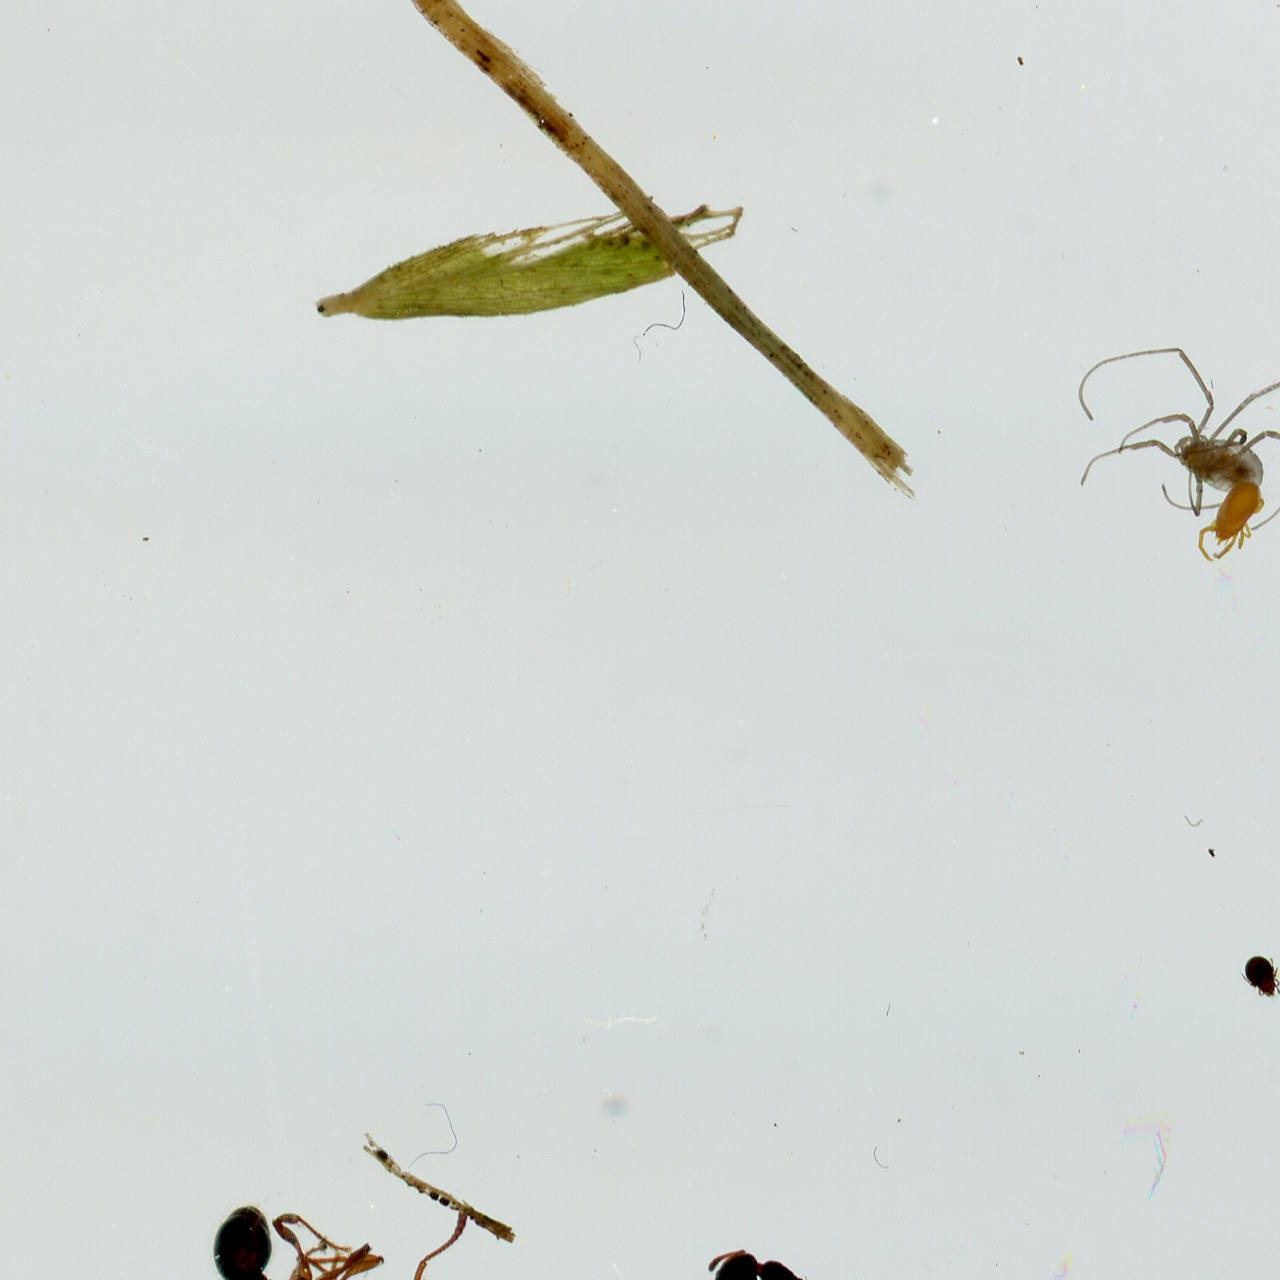arthropod: (1073, 332, 1280, 533), (211, 1191, 472, 1280), (1187, 469, 1274, 576), (702, 1241, 873, 1280), (1233, 947, 1280, 1008)
